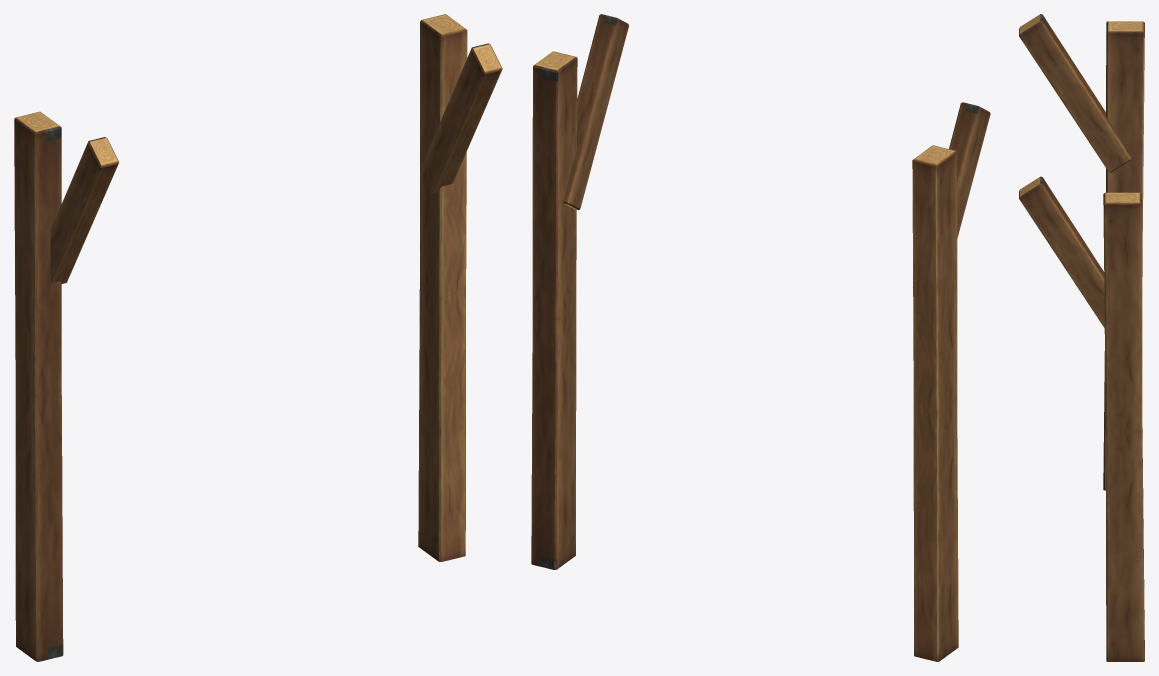
File: dock-pieces.fbx
3 renders of one model, left to right at view 1: azimuth 30°, elevation 25°; view 2: azimuth 150°, elevation 25°; view 3: azimuth 270°, elevation 25°, orthographic. The views are drawn at different scales.
Parts seen in each view (by area): view 1: bridge_03a_downside_02; view 2: bridge_03a_downside_02; view 3: bridge_03a_downside_02.
Boxes of the visible parts, x1,y1,x2,y2 form: bridge_03a_downside_02: (14, 14, 502, 661); bridge_03a_downside_02: (531, 14, 990, 661); bridge_03a_downside_02: (1019, 14, 1144, 661).
Size of the model in its own units: 190 by 229 by 55.47.
Materials: 1 (1 with a texture image).
